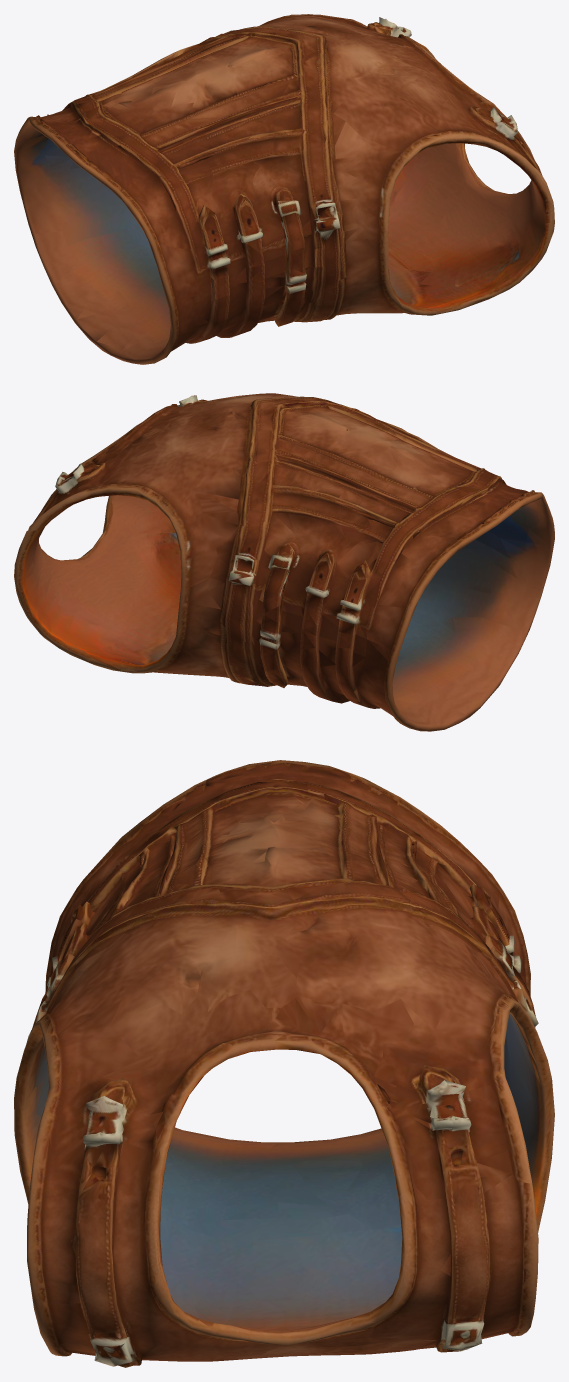
The model's file is armor0.glb.
3 renders of one model, top to bottom at view 1: azimuth 30°, elevation 25°; view 2: azimuth 150°, elevation 25°; view 3: azimuth 270°, elevation 25°, orthographic. The views are drawn at different scales.
Parts seen in each view (by area): view 1: tripo_node_ae477442; view 2: tripo_node_ae477442; view 3: tripo_node_ae477442.
Boxes of the visible parts, x1,y1,x2,y2 form: tripo_node_ae477442: (14,14,554,364); tripo_node_ae477442: (14,393,554,731); tripo_node_ae477442: (14,760,554,1367).
Size of the model in its own units: 0.6427 by 0.3599 by 0.4298.
Materials: 1 (1 with a texture image).
